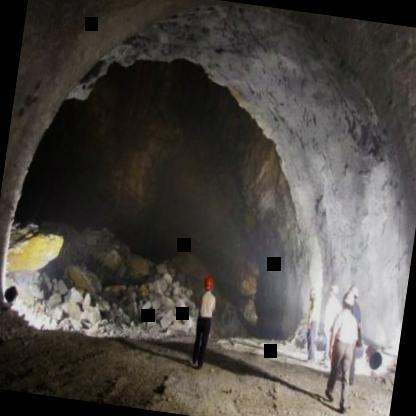helmet: (201, 272, 216, 297), (340, 290, 354, 314)
